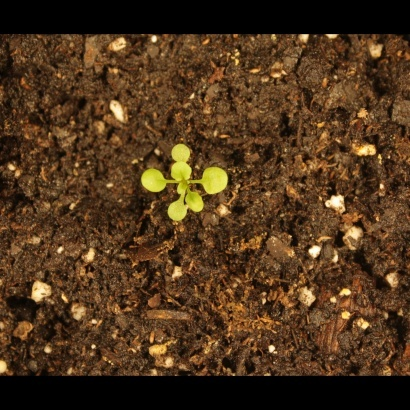leaf: (198, 166, 236, 196), (165, 137, 197, 166), (141, 167, 169, 195), (183, 189, 211, 215), (164, 193, 187, 223), (169, 159, 196, 184), (172, 176, 195, 199)
